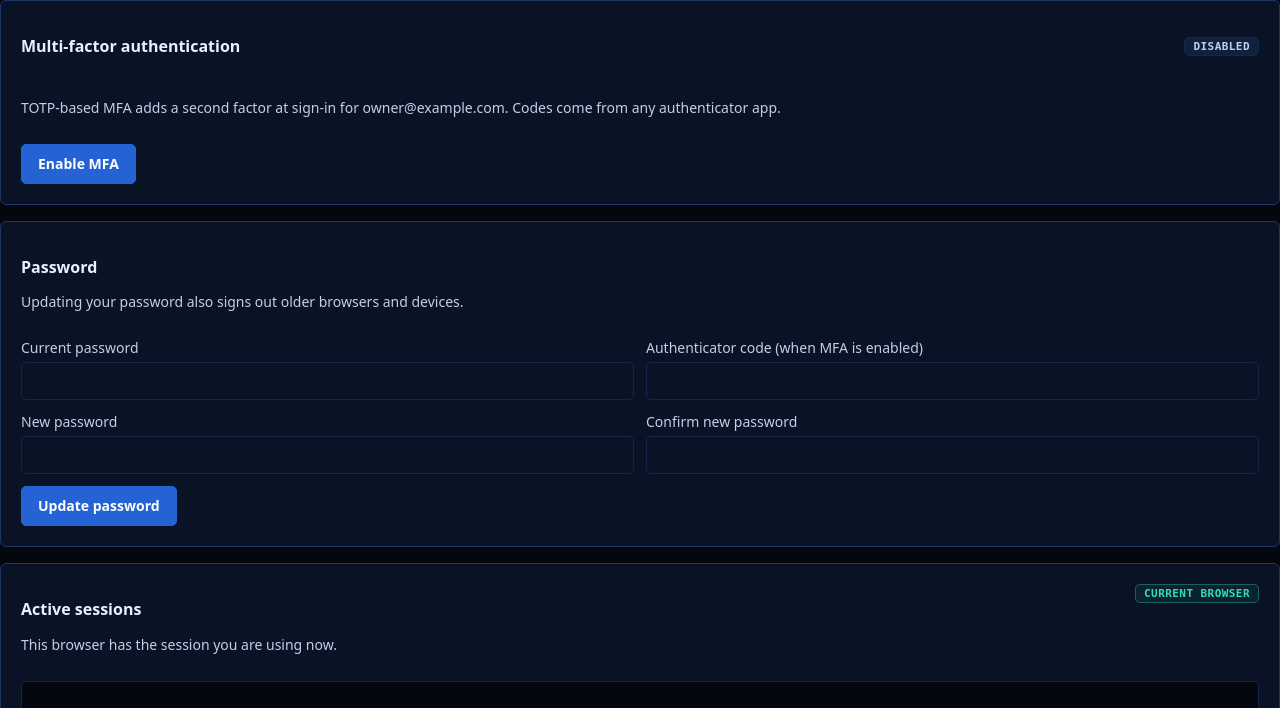
AccountSecurity › changes the password and revokes older sessions without signing out this browser
expect the heading "Password" is shown: met, box x1=21 y1=256 x2=97 y2=278
Type "current-password" into the password field labelled "Current password".
click(328, 381); type("current-password")  # box x1=21 y1=362 x2=634 y2=400
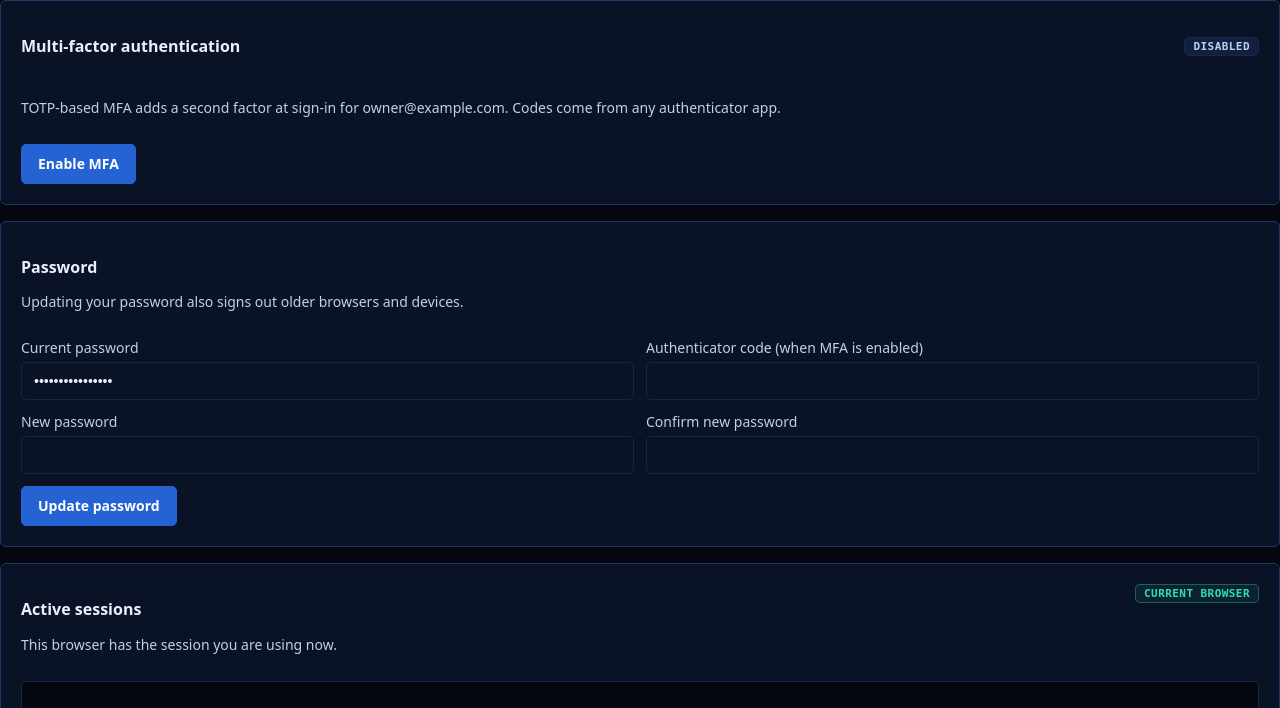
Type "new-password-strong" into the password field labelled "New password".
click(328, 455); type("new-password-strong")  # box x1=21 y1=436 x2=634 y2=474
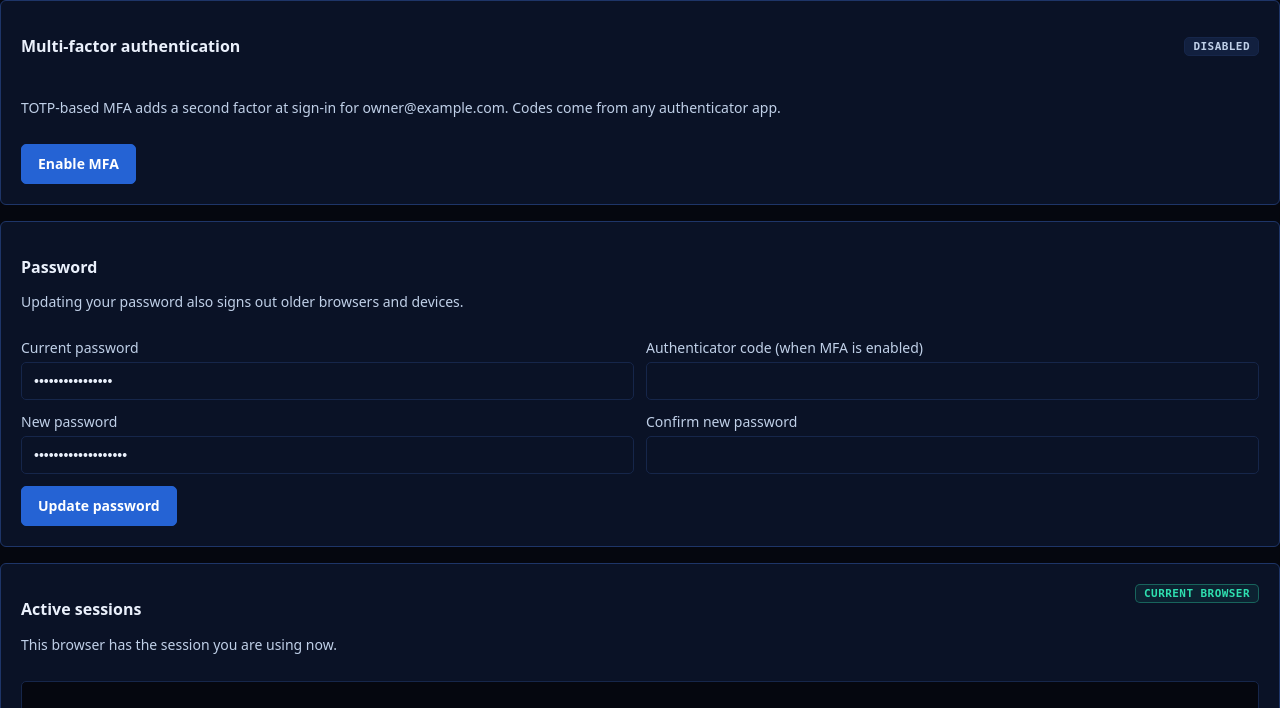
Type "new-password-strong" into the password field labelled "Confirm new password".
click(952, 455); type("new-password-strong")  # box x1=646 y1=436 x2=1259 y2=474
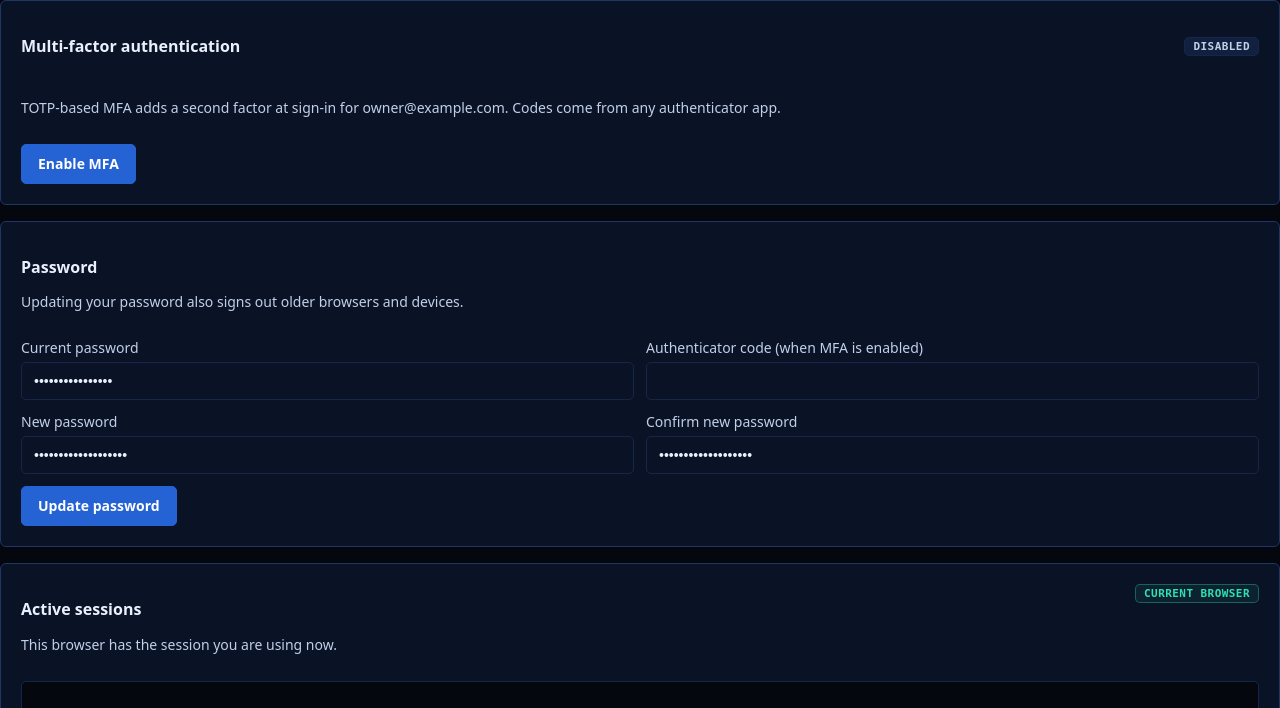
Click the button "Update password".
click(99, 506)  # box x1=21 y1=486 x2=177 y2=526
(page scrolled)
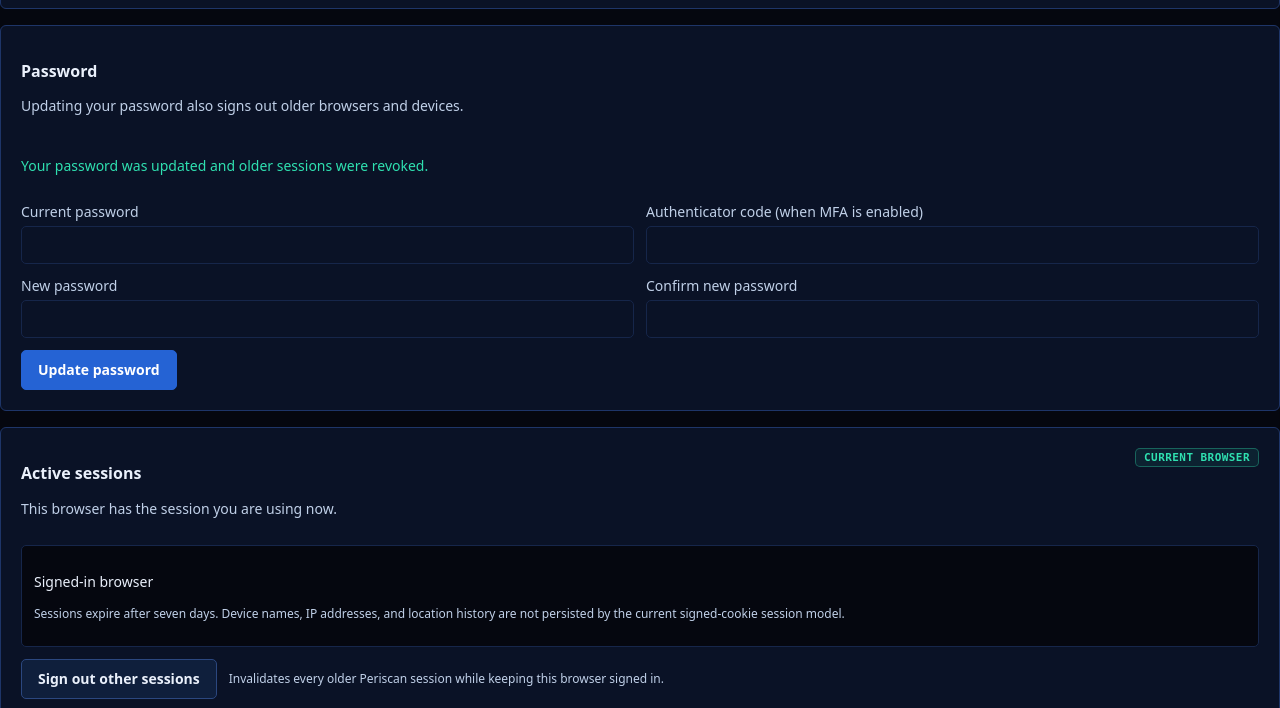
expect the text "Your password was updated and older sessions were revoked." is shown: met, box x1=21 y1=156 x2=428 y2=175
Click the button "Sign out other sessions".
click(119, 679)  # box x1=21 y1=659 x2=217 y2=699
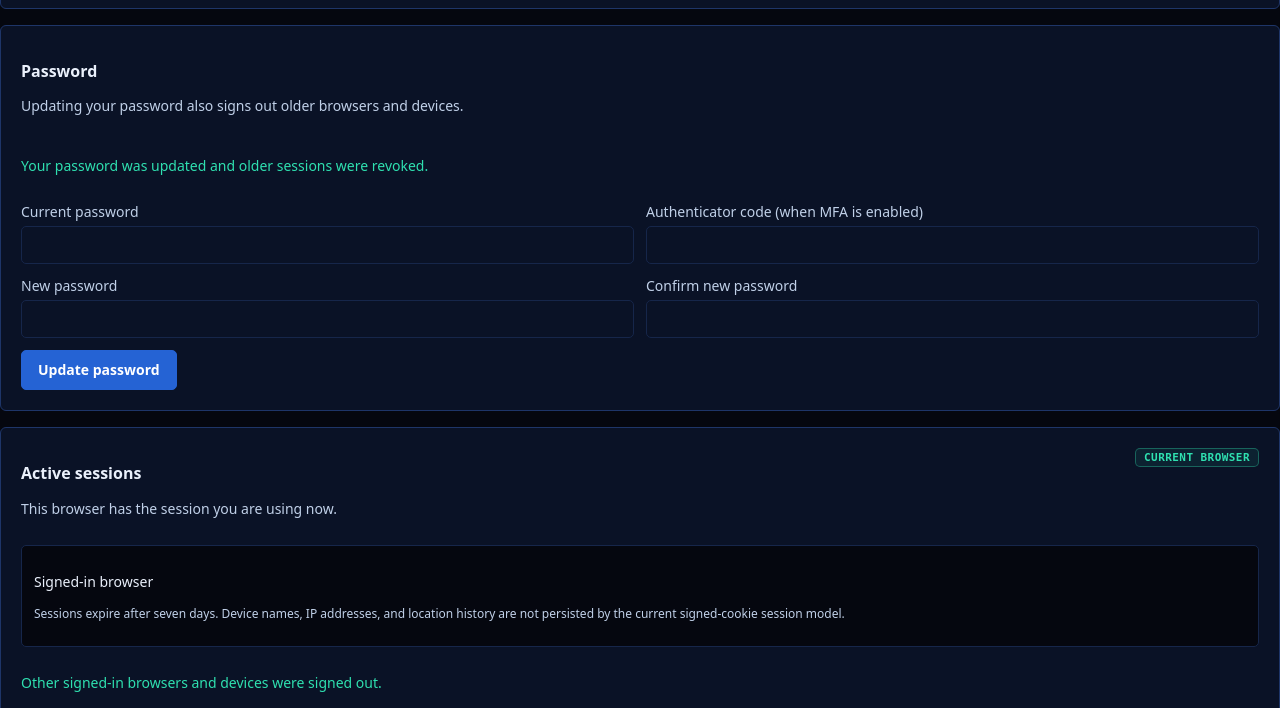
expect the text "Current browser" is shown: met, box x1=1135 y1=448 x2=1259 y2=467
expect the text "Other signed-in browsers and devices were signed out." is shown: met, box x1=21 y1=673 x2=382 y2=692
